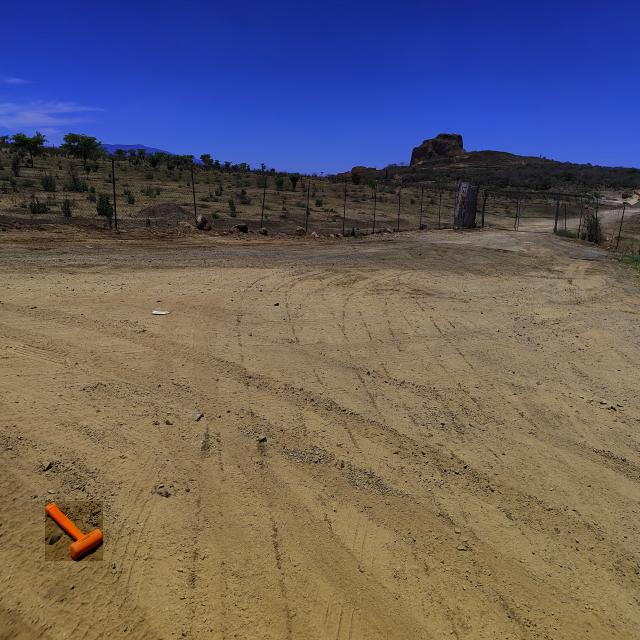Orange_hammer: (45, 501, 103, 561)
